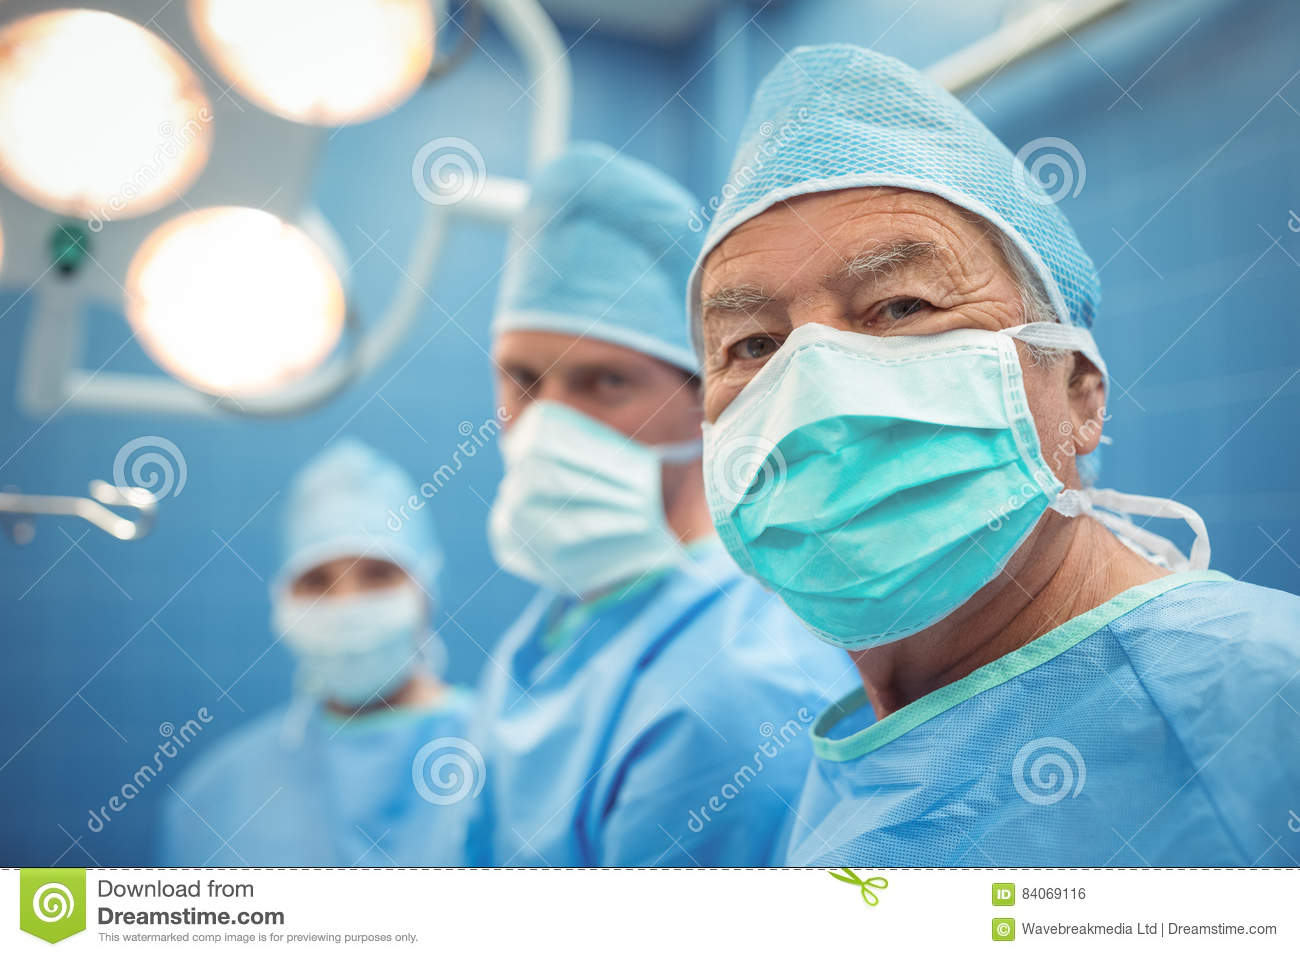mask: (686, 350, 1052, 607), (478, 416, 663, 574)
